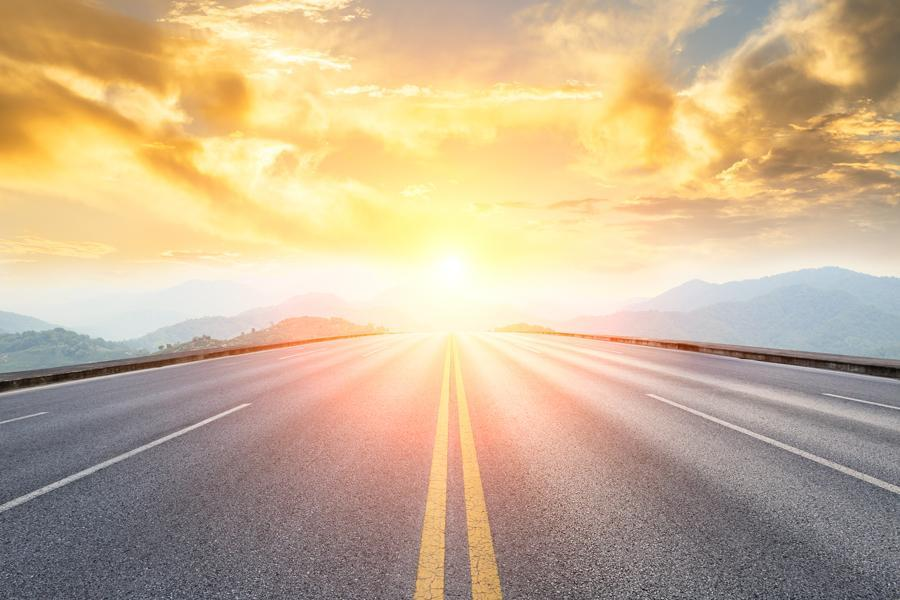light: (311, 157, 591, 417)
